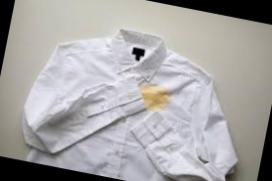coffee: (142, 85, 168, 108)
